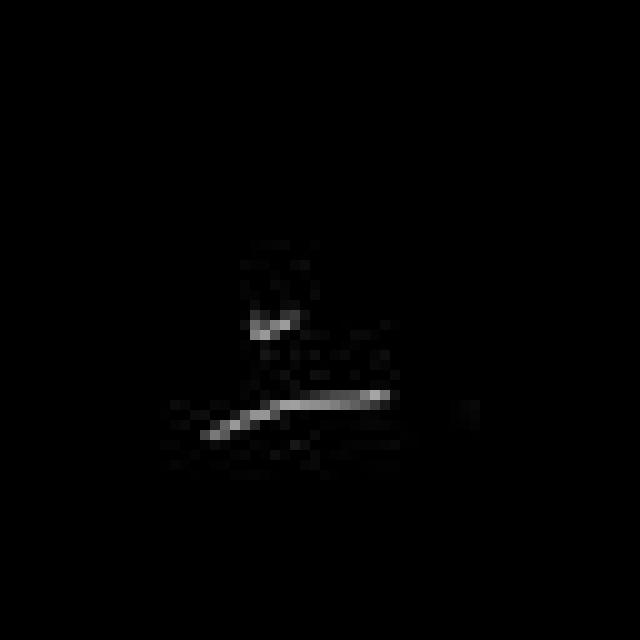2 -two-: (196, 302, 404, 458)
